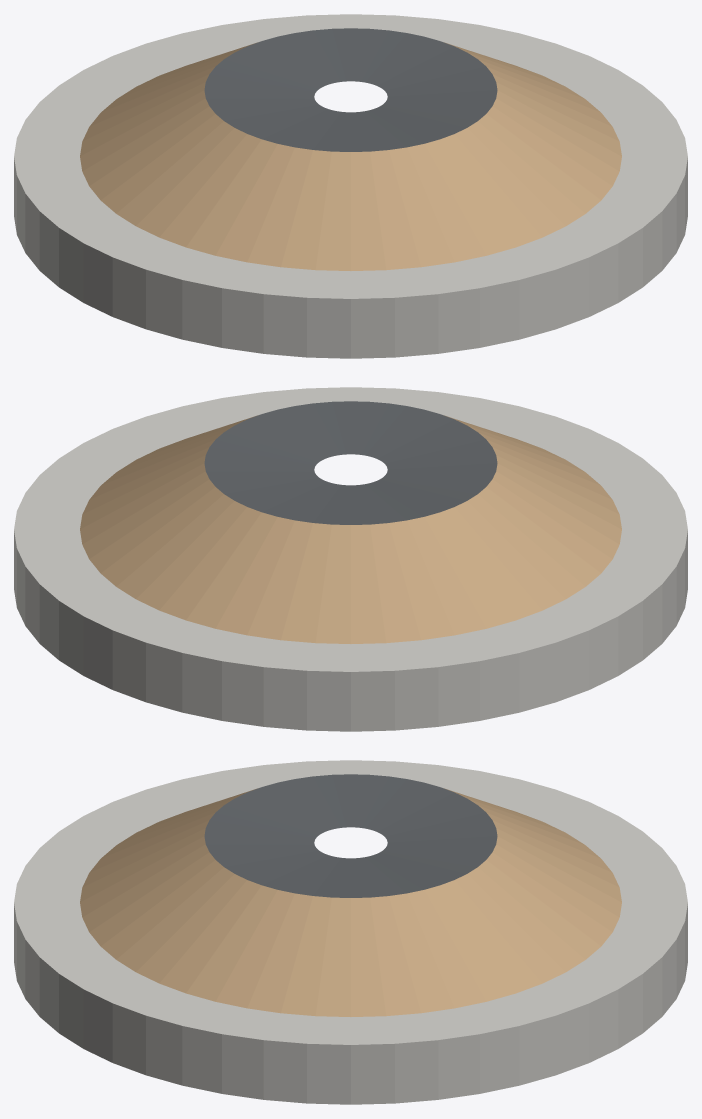
The model's file is hall-meeting-point-ring-bench.gltf.
3 renders of one model, top to bottom at view 1: azimuth 30°, elevation 25°; view 2: azimuth 150°, elevation 25°; view 3: azimuth 270°, elevation 25°, orthographic.
Parts seen in each view (by area): view 1: hall-meeting-point-ring-bench; view 2: hall-meeting-point-ring-bench; view 3: hall-meeting-point-ring-bench.
Part boxes in pixels (x1,y1,x2,y2): hall-meeting-point-ring-bench: (14, 14, 687, 358); hall-meeting-point-ring-bench: (14, 387, 687, 731); hall-meeting-point-ring-bench: (14, 760, 687, 1104).
Bounding box in the file's own units: 4.6 × 0.95 × 4.6.
